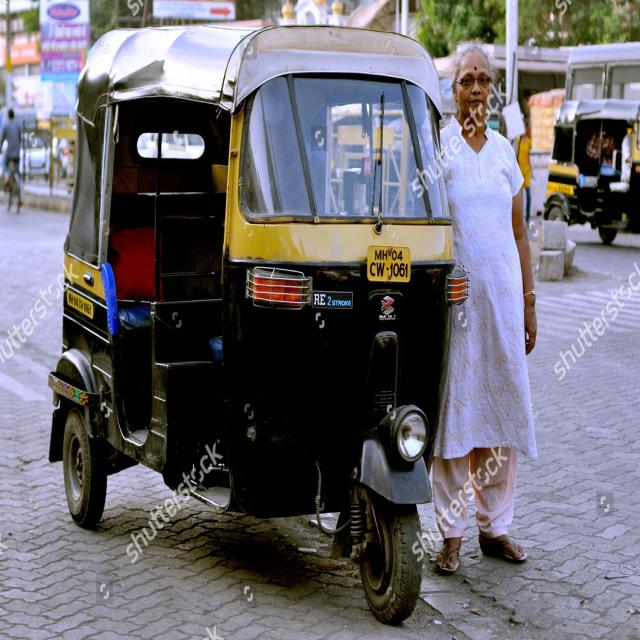plate: (363, 238, 413, 287), (63, 284, 97, 320)
